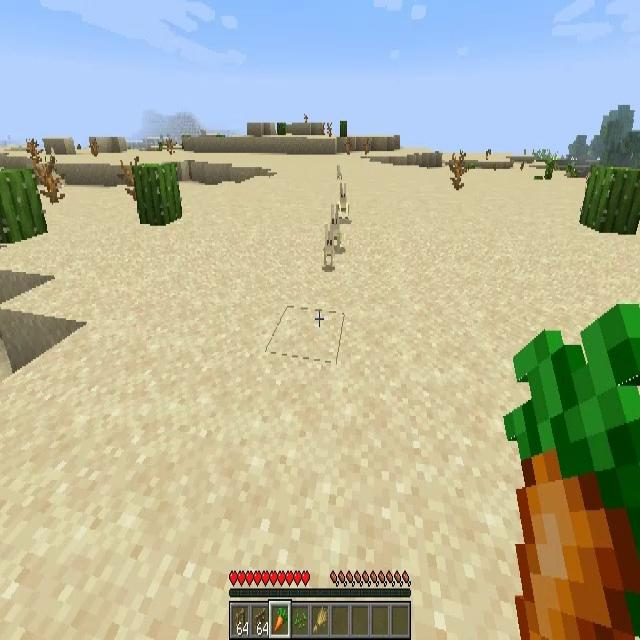rabbit: (324, 207, 340, 260), (338, 182, 349, 216), (336, 165, 343, 180)
